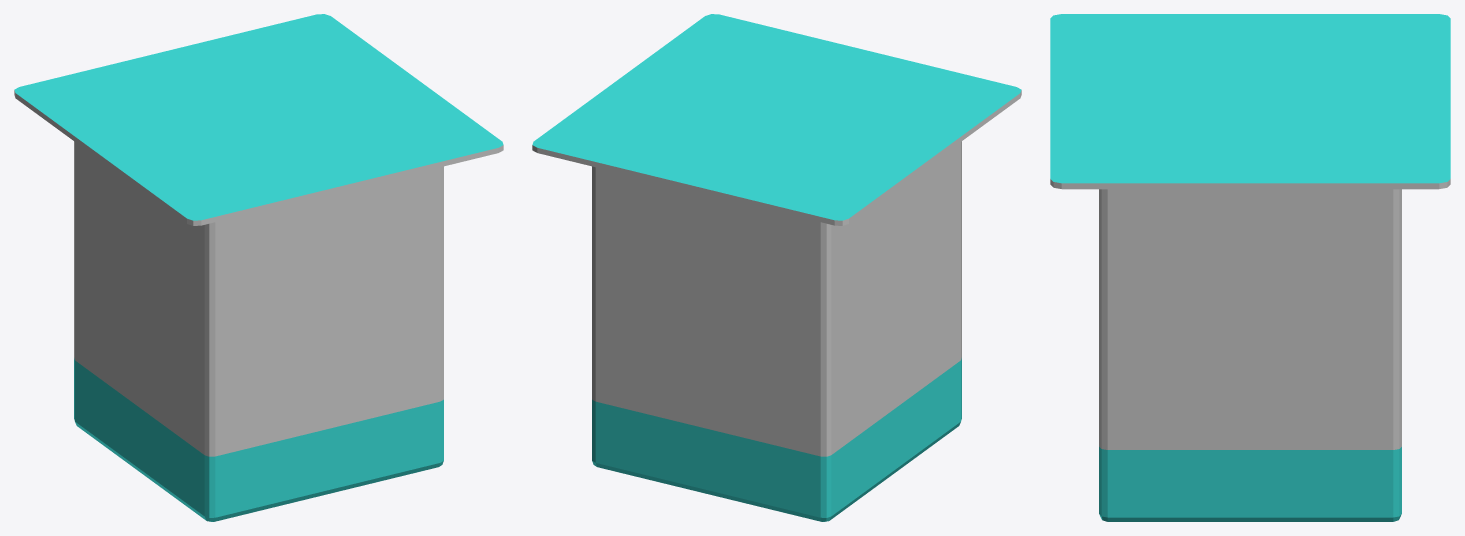
File: yogurt.fbx
The picture shows the model from 3 angles, left to right: view 1: azimuth 30°, elevation 25°; view 2: azimuth 150°, elevation 25°; view 3: azimuth 270°, elevation 25°; orthographic projection. The views are drawn at different scales.
Parts seen in each view (by area): view 1: Cube.005; view 2: Cube.005; view 3: Cube.005.
Boxes of the visible parts, x1=… form: Cube.005: x1=14, y1=14, x2=503, y2=521; Cube.005: x1=532, y1=14, x2=1021, y2=521; Cube.005: x1=1050, y1=14, x2=1450, y2=521.
Bounding box in the file's own units: 27.73 × 27.7 × 27.73.
